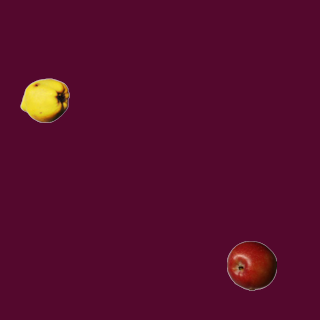Apple Braeburn: (226, 240, 276, 290)
Quince: (19, 75, 69, 125)
